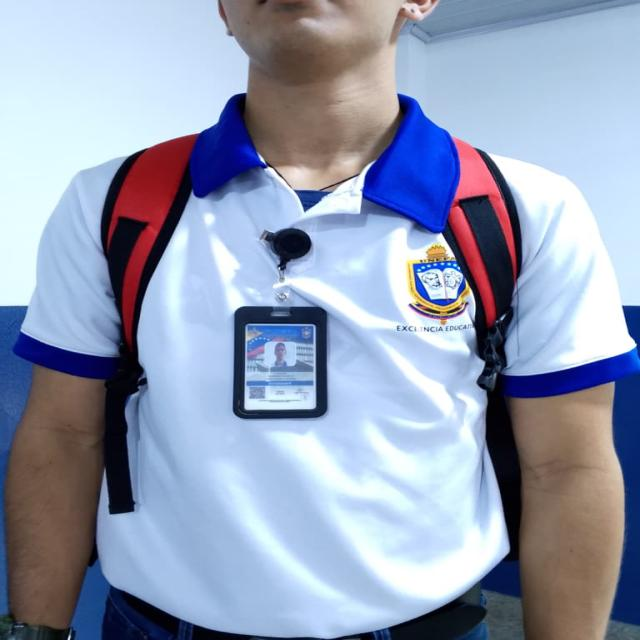carnet: (245, 324, 316, 409)
uniforme_superior: (15, 91, 639, 639)
